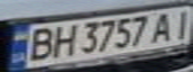3: (75, 20, 100, 55)
5: (115, 15, 136, 49)
7: (127, 12, 154, 46), (97, 17, 118, 52)
A: (148, 9, 178, 43)
B: (21, 25, 57, 62)
H: (48, 22, 78, 58)
I: (166, 6, 193, 39)
